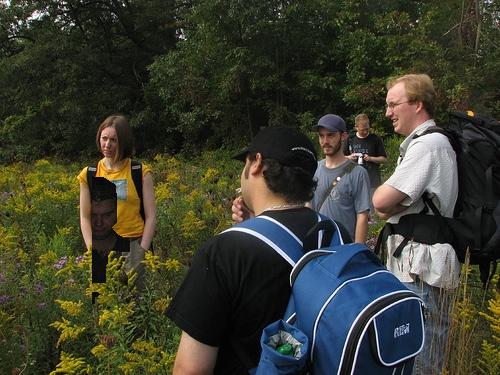tampered: (93, 177, 130, 304)
